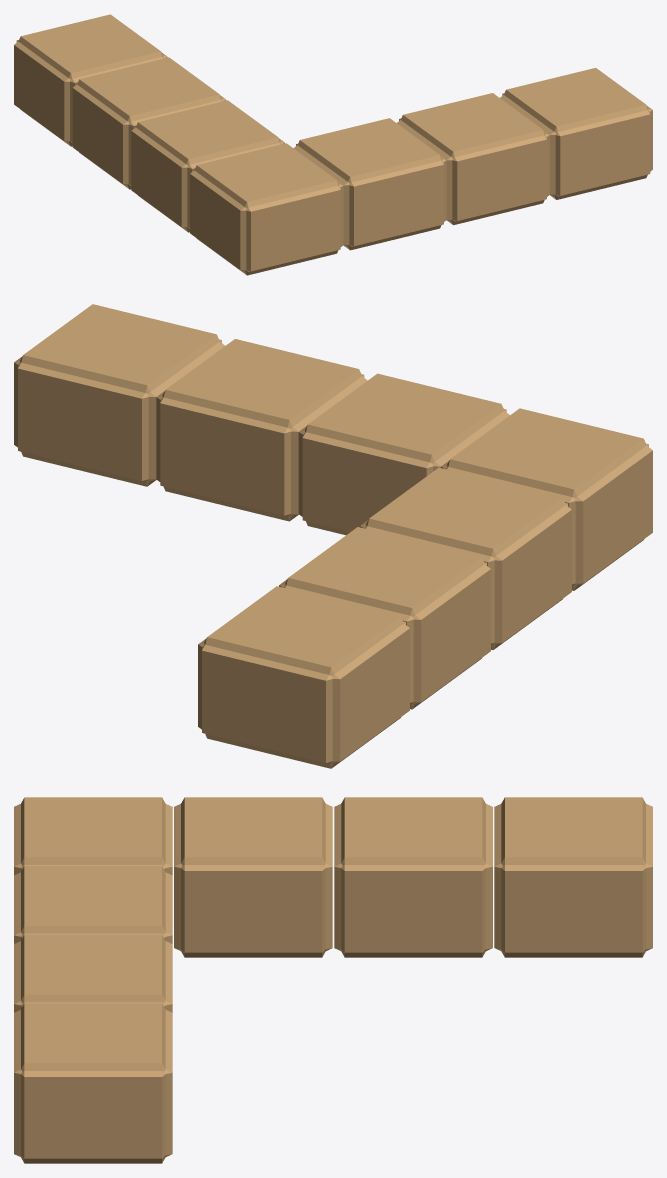
The model's file is lateralpequena.fbx.
The picture shows the model from 3 angles, top to bottom: view 1: azimuth 30°, elevation 25°; view 2: azimuth 150°, elevation 25°; view 3: azimuth 270°, elevation 25°; orthographic projection. The views are drawn at different scales.
Visible parts, largest first — view 1: lateralpequena; view 2: lateralpequena; view 3: lateralpequena.
Boxes of the visible parts, bbox=[...] form: lateralpequena: bbox=[14, 14, 652, 275]; lateralpequena: bbox=[14, 304, 652, 768]; lateralpequena: bbox=[14, 797, 652, 1163].
Bounding box in the file's own units: 560 × 95.48 × 551.
1 material, 1 textured.
